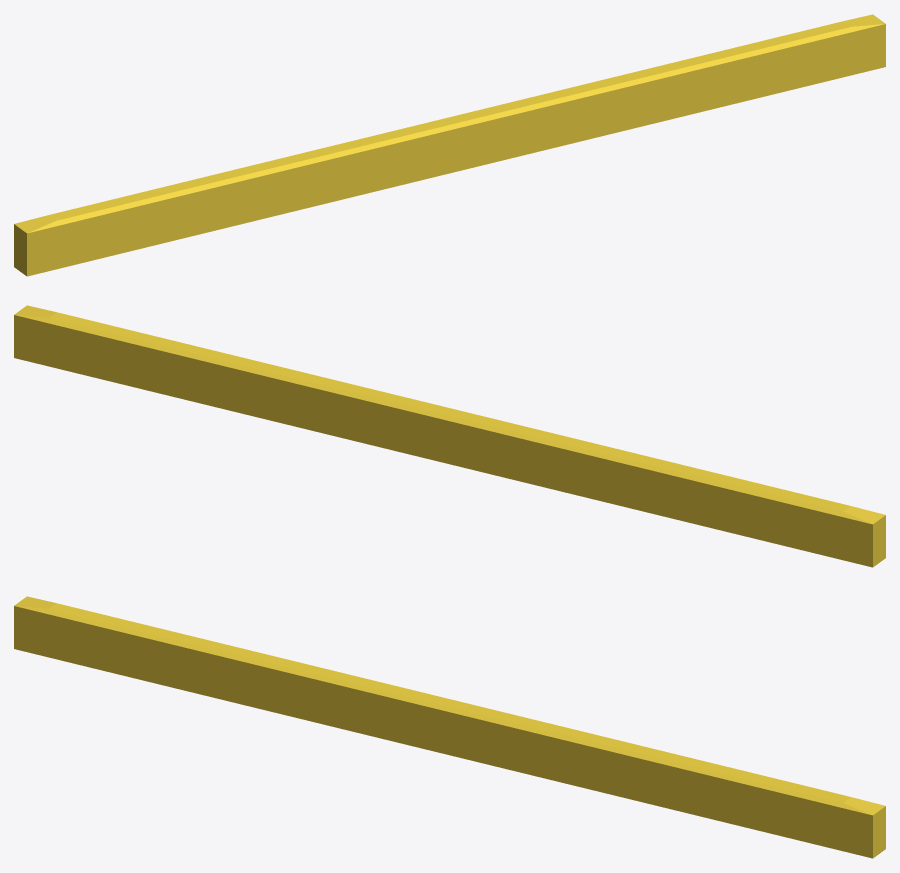
Rendered from level1.5.fbx.
3 renders of one model, top to bottom at view 1: azimuth 30°, elevation 25°; view 2: azimuth 150°, elevation 25°; view 3: azimuth 330°, elevation 25°, orthographic.
Visible parts, largest first — view 1: Cube.005; view 2: Cube.005; view 3: Cube.005.
Part boxes in pixels (x1,y1,x2,y2): Cube.005: (14, 14, 885, 276); Cube.005: (14, 305, 885, 567); Cube.005: (14, 596, 885, 858).
Size of the model in its own units: 1729 by 88.65 by 45.41.
